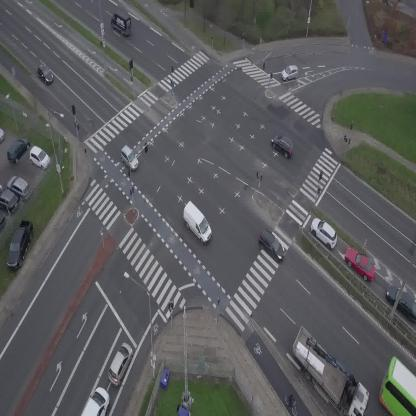bicycle: (284, 393, 299, 416)
bus: (380, 357, 416, 416)
car: (340, 242, 382, 285), (103, 340, 137, 388), (305, 213, 343, 251), (255, 229, 290, 263), (266, 129, 299, 160), (81, 386, 110, 416), (115, 144, 143, 173), (34, 62, 56, 86), (279, 64, 300, 82)
lorry: (279, 321, 378, 416), (174, 200, 219, 245), (107, 8, 139, 39)
